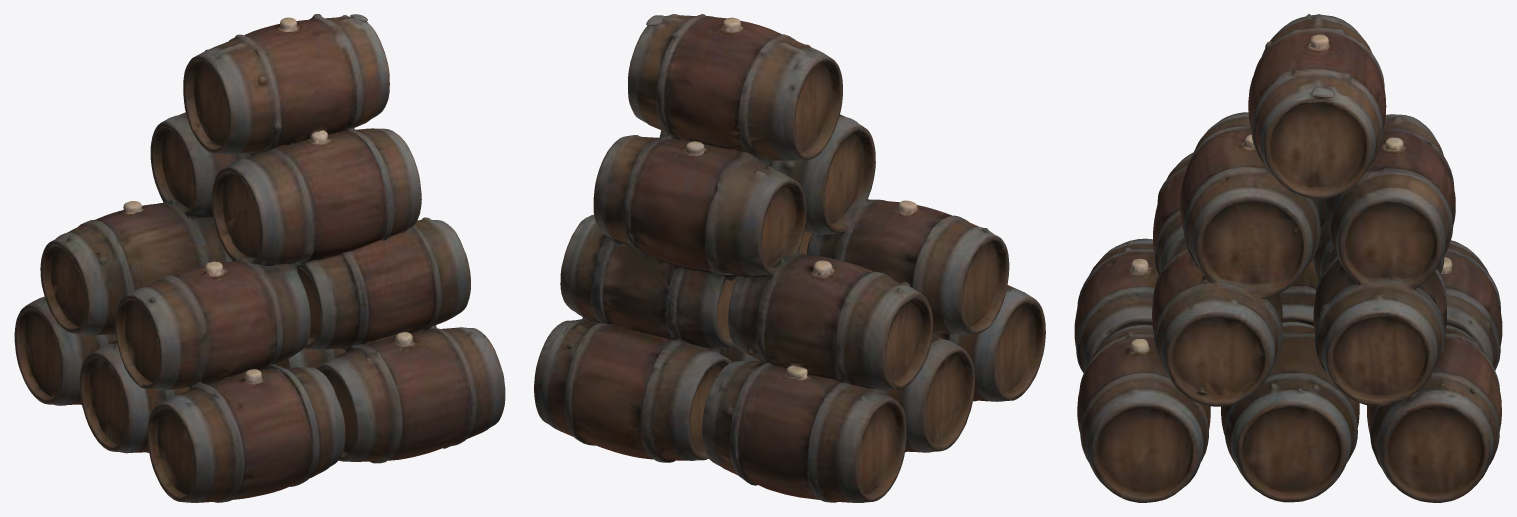
File: 重叠的酒桶.glb
3 renders of one model, left to right at view 1: azimuth 30°, elevation 25°; view 2: azimuth 150°, elevation 25°; view 3: azimuth 270°, elevation 25°, orthographic. The views are drawn at different scales.
Visible parts, largest first — view 1: tripo_node_bafdd9ff-ccfc-4a8d-9453-ceac62b5fe90; view 2: tripo_node_bafdd9ff-ccfc-4a8d-9453-ceac62b5fe90; view 3: tripo_node_bafdd9ff-ccfc-4a8d-9453-ceac62b5fe90.
Boxes of the visible parts, <box> form: tripo_node_bafdd9ff-ccfc-4a8d-9453-ceac62b5fe90: <box>14,14,505,502</box>; tripo_node_bafdd9ff-ccfc-4a8d-9453-ceac62b5fe90: <box>534,14,1045,502</box>; tripo_node_bafdd9ff-ccfc-4a8d-9453-ceac62b5fe90: <box>1074,14,1502,502</box>.
Size of the model in its own units: 0.8552 by 0.9997 by 0.9285.
Materials: 1 (1 with a texture image).
